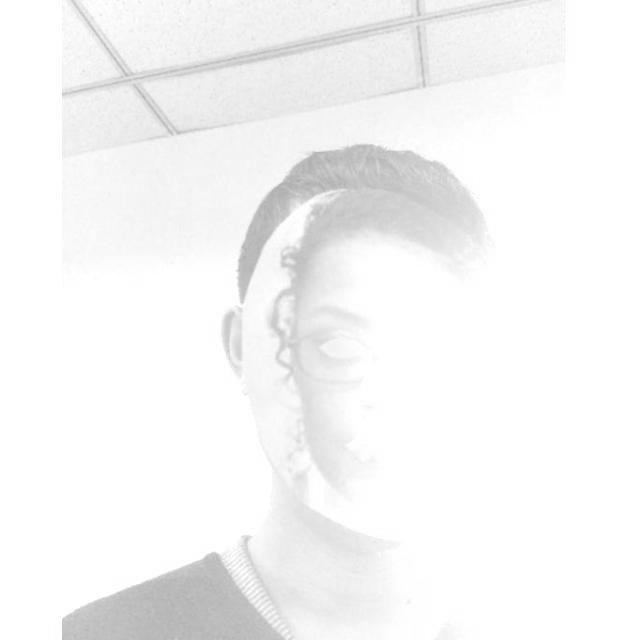fake: (245, 186, 539, 540)
